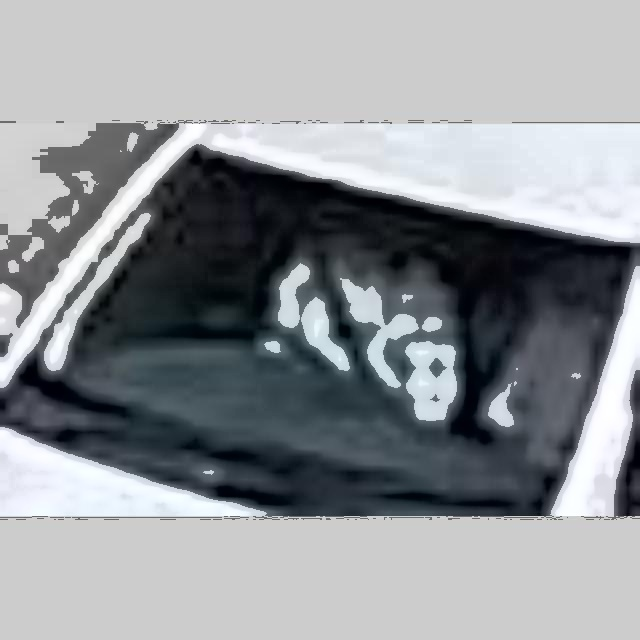pakai: (240, 212, 456, 404)
